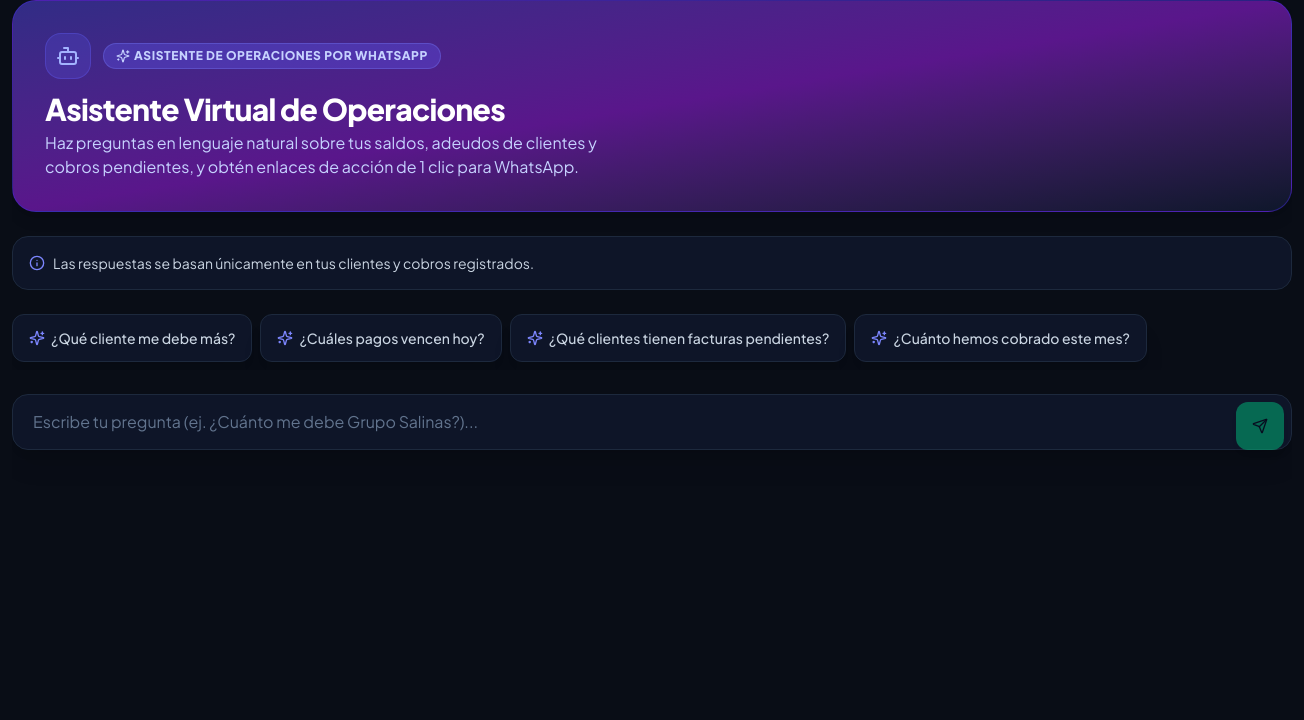
Scenario: a real tenant’s question is answered from their own records › labels a model-written answer as AI only when the server says so
Type "¿Qué cliente me debe más?" into the field with placeholder "Escribe tu pregunta (ej. ¿Cuánto me debe Grupo Salinas?)...".
click(652, 422); type("¿Qué cliente me debe más?")  # box [12,394,1292,450]
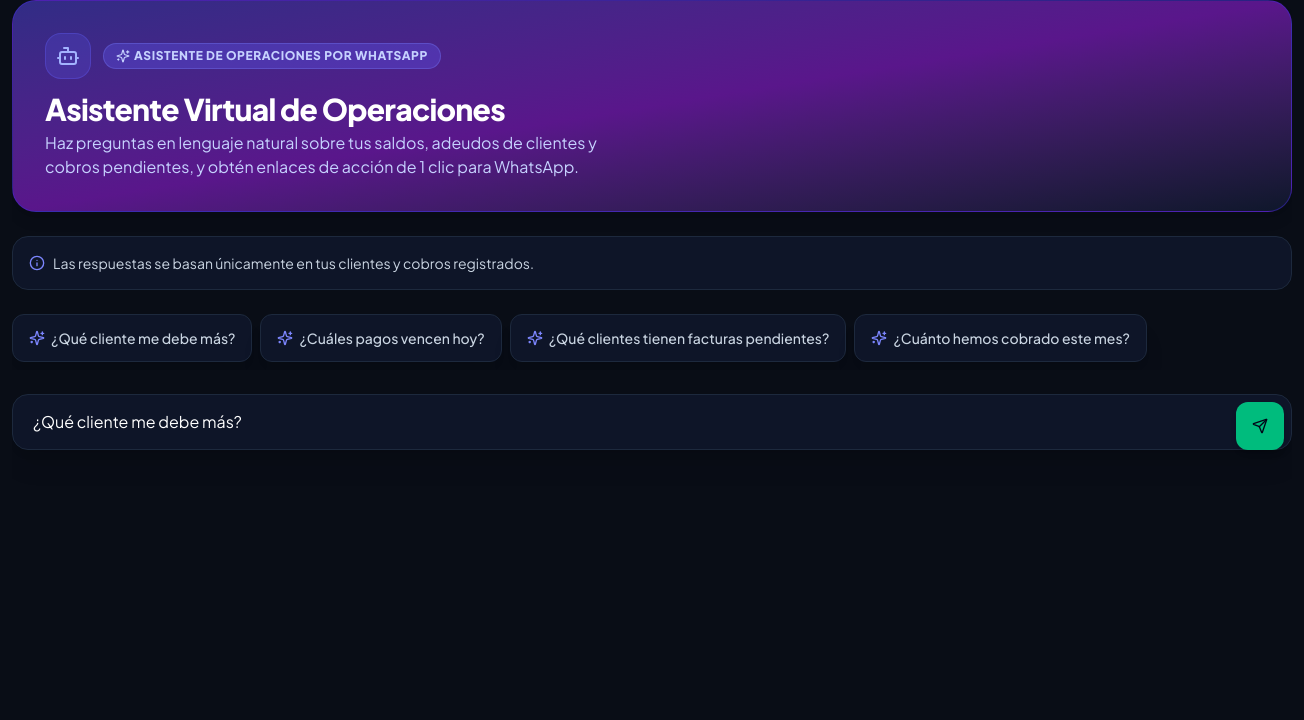
Click the button named "Enviar pregunta".
click(1260, 426)  # box [1236,402,1284,450]
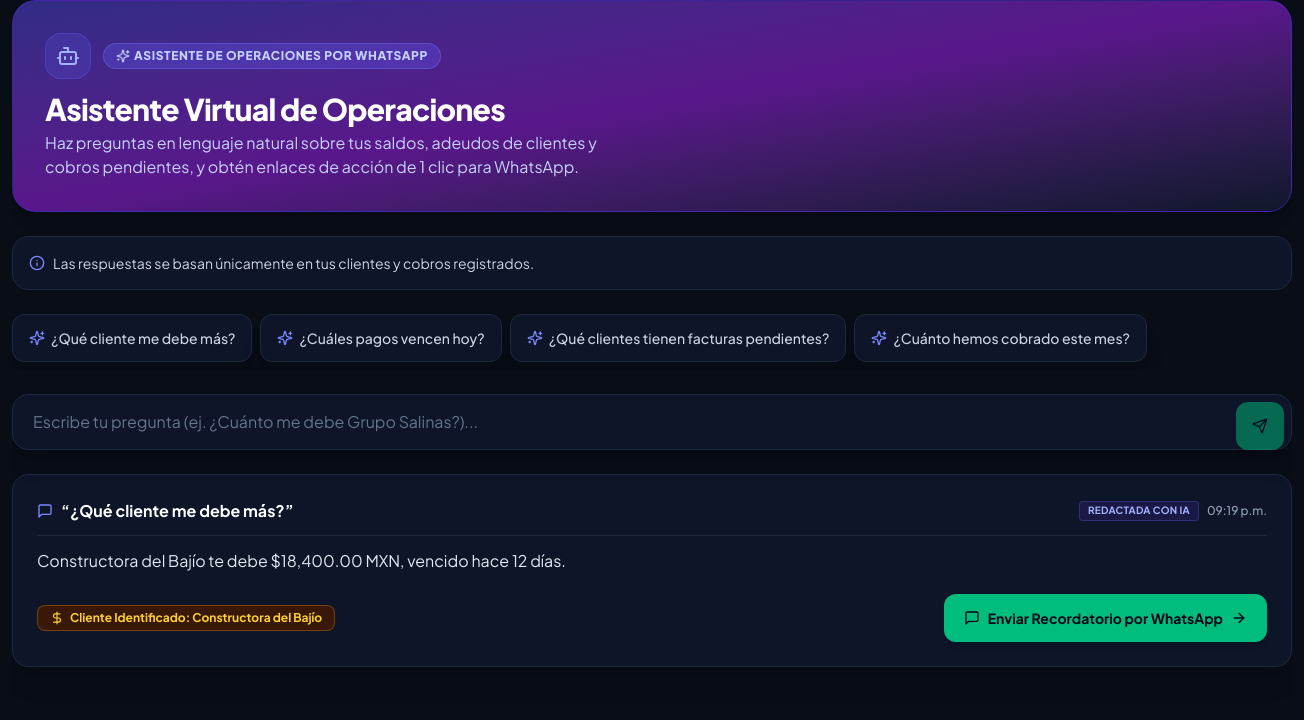
Expected: the text "Constructora del Bajío te debe $18,400.00 MXN" is shown, [37,550,566,571]
Expected: the text "Redactada con IA" is shown, [1079,501,1199,521]
